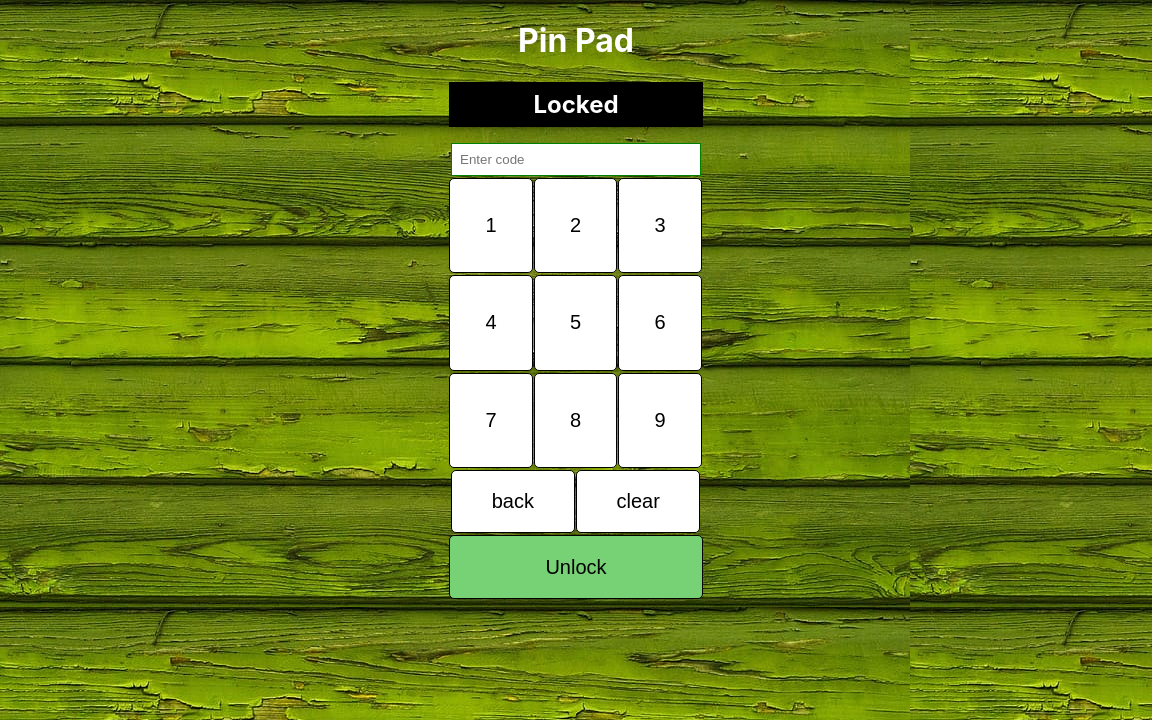
Test case: should remove all numbers wheh clear is hit
Click the button "1" at (491, 226), box x1=449 y1=178 x2=533 y2=273
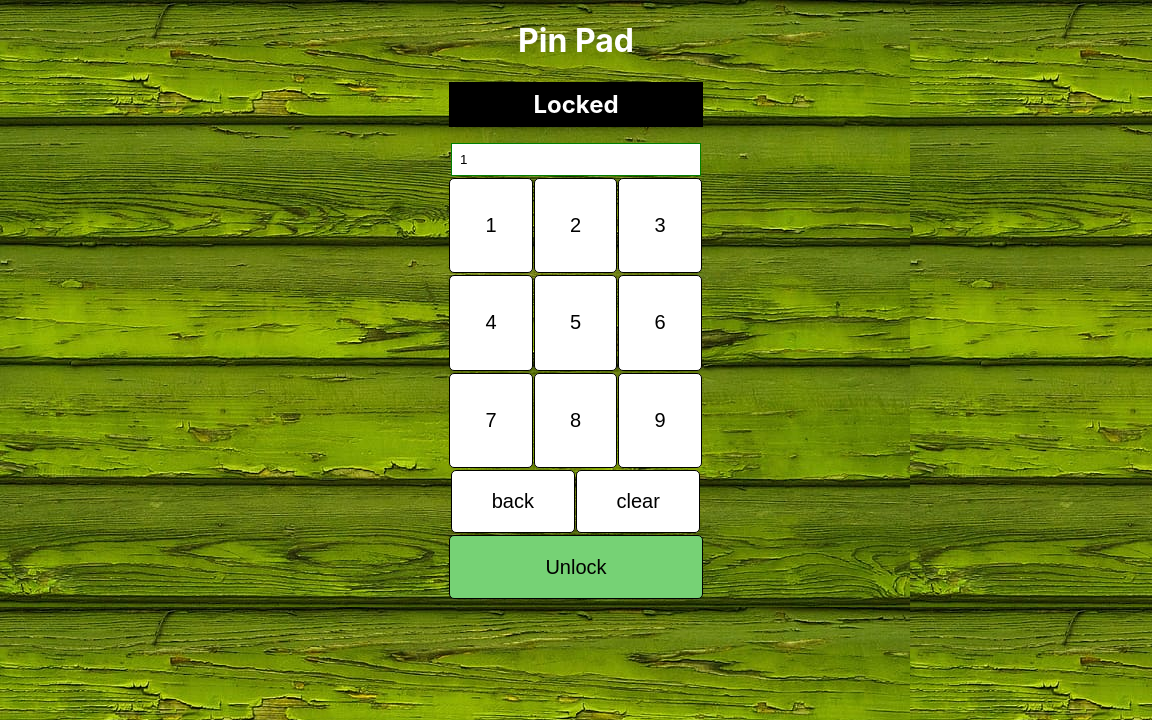
Click the button "9" at (660, 420), box x1=618 y1=373 x2=702 y2=468
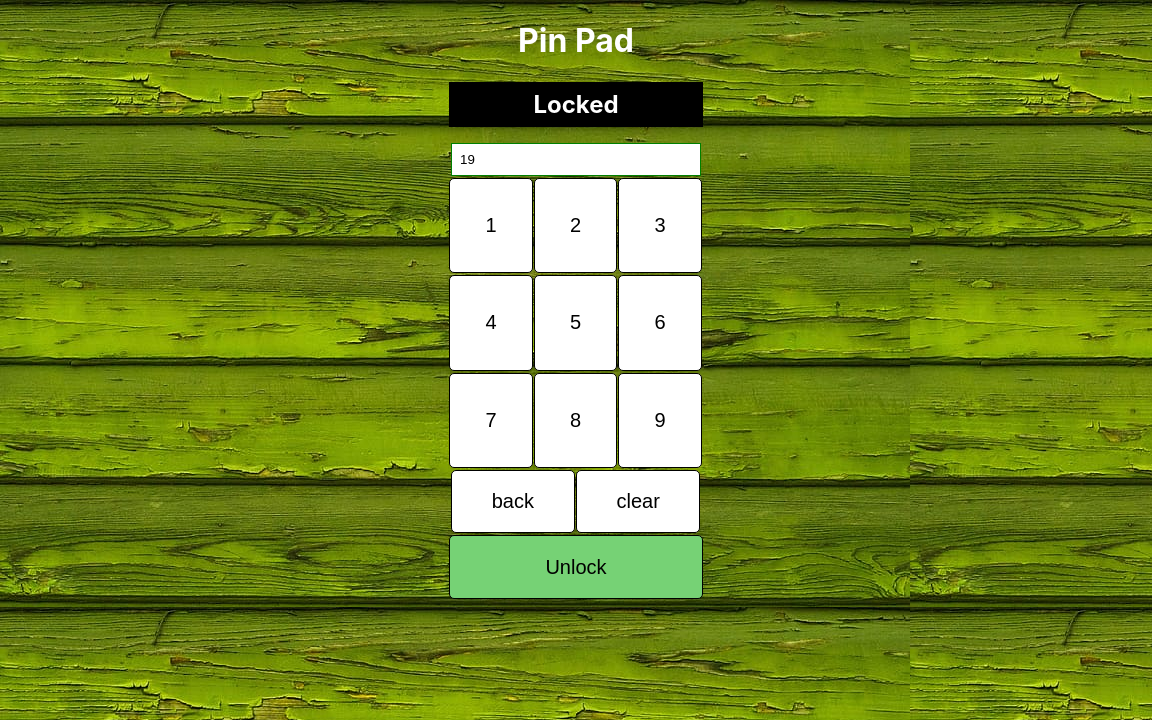
Click the button "9" at (660, 420), box x1=618 y1=373 x2=702 y2=468
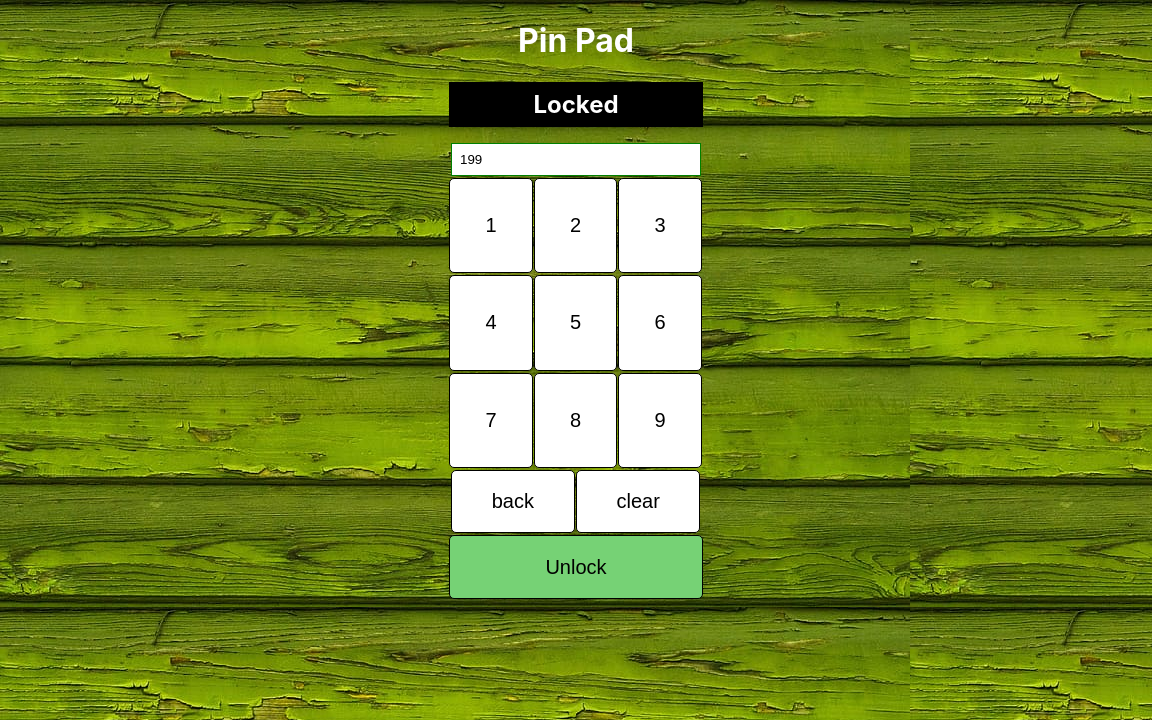
Click the button "6" at (660, 323), box x1=618 y1=275 x2=702 y2=371
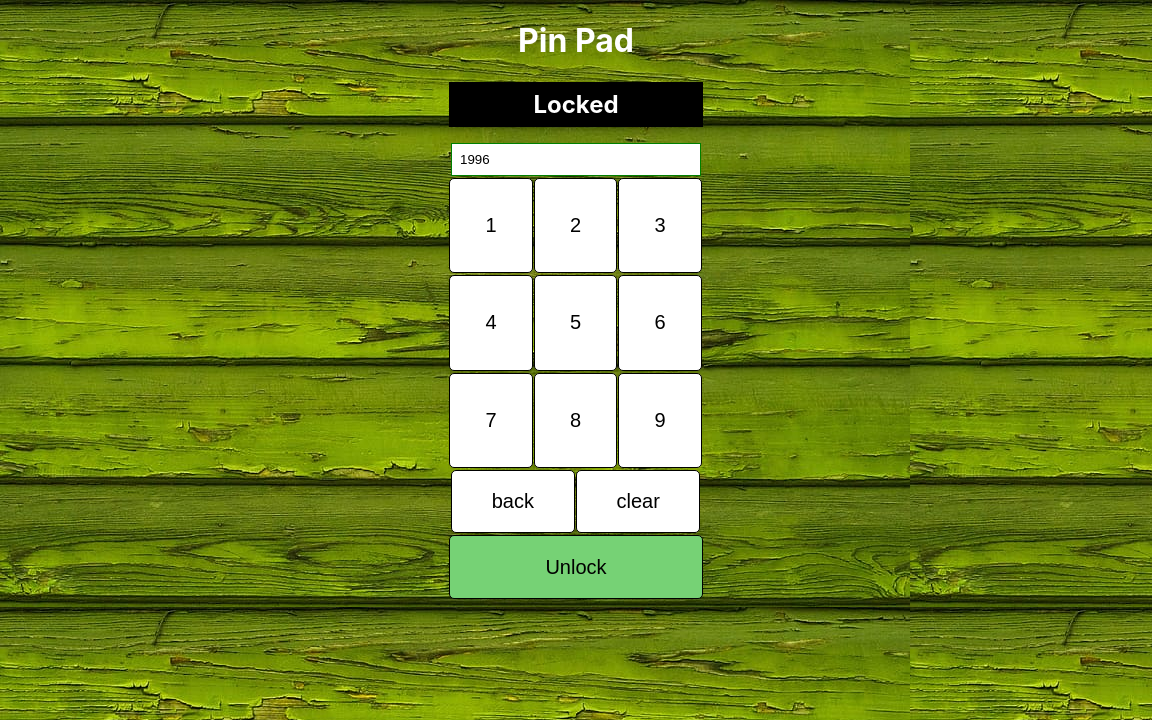
Result: the field named "input-code" holds "1996" at x1=451 y1=143 x2=701 y2=176
Click the button "clear" at (638, 502), box x1=576 y1=470 x2=700 y2=533
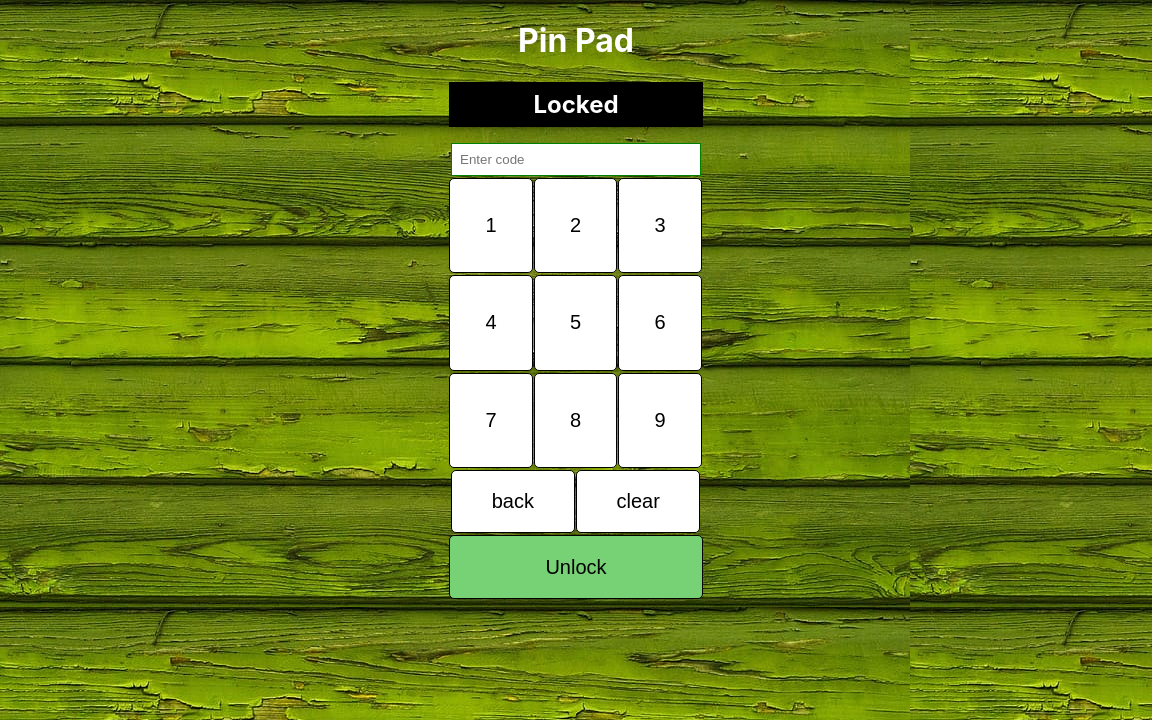
Result: the field named "input-code" is empty at x1=451 y1=143 x2=701 y2=176
